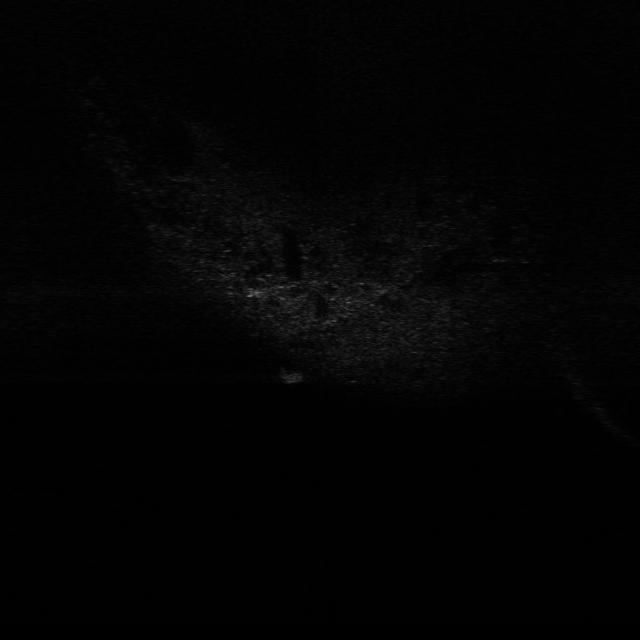cube: (273, 365, 307, 388)
